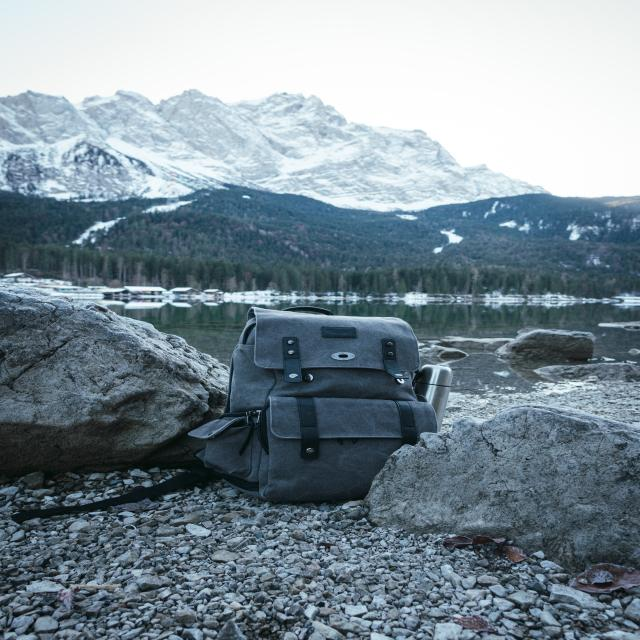backpack: (200, 304, 440, 511)
